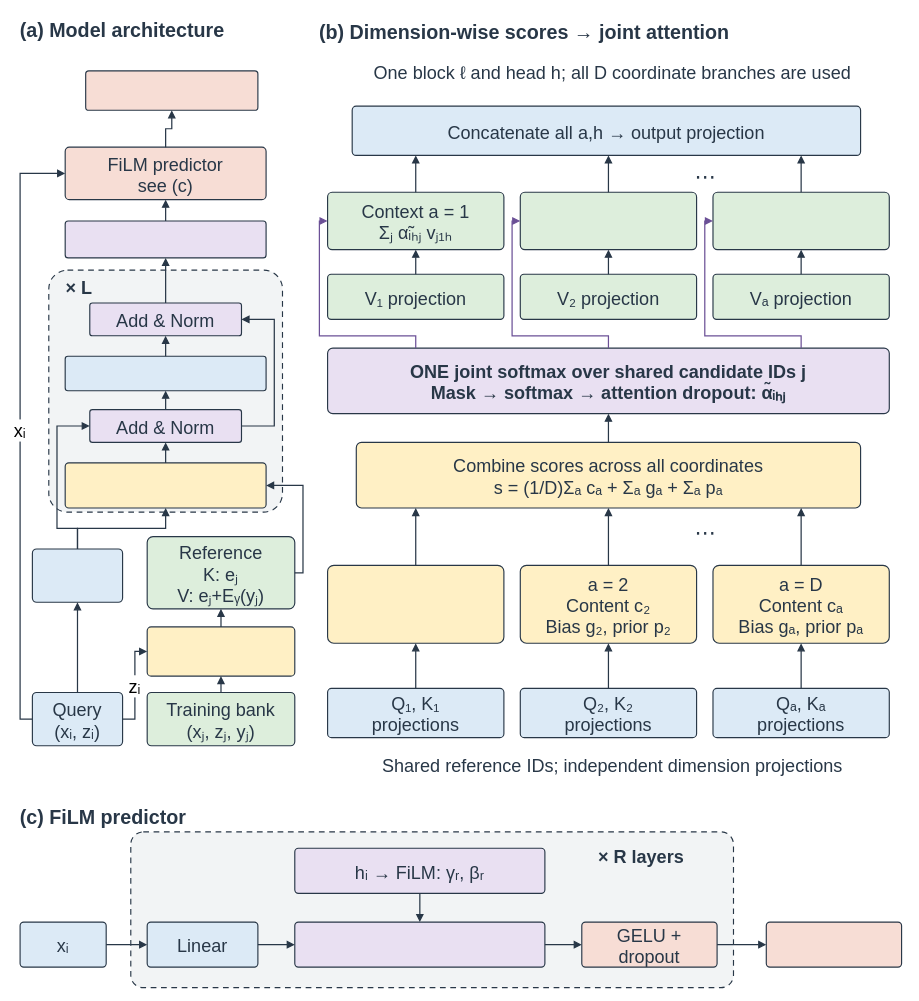
Image size: 919x1001. Some labels were removed from this diagram. The shapes that lost their labels are listed below. From the top down, each one's centre as x and y in pixels, then its label:
At point (171, 90): "Prediction ŷᵢ".
At point (165, 239): "Local condition hᵢ".
At point (608, 220): "Context a = 2 Σⱼ α̃ᵢₕⱼ vⱼ₂ₕ".
At point (800, 220): "Context a = D Σⱼ α̃ᵢₕⱼ vⱼₐₕ".
At point (165, 373): "Feed-forward".
At point (165, 485): "Joint attention see (b)".
At point (77, 575): "Query eᵢ".
At point (415, 603): "a = 1 Content c₁ Bias g₁, prior p₁".
At point (220, 651): "Top-K union using bℓₐₕ".
At point (419, 944): "(1+tanh γᵣ) ⊙ aᵣ + βᵣ".
At point (833, 944): "Linear readout".
